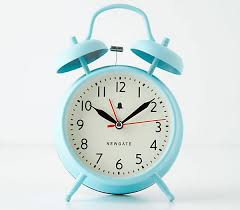alarm_clock: (50, 2, 187, 202), (50, 9, 187, 202)
